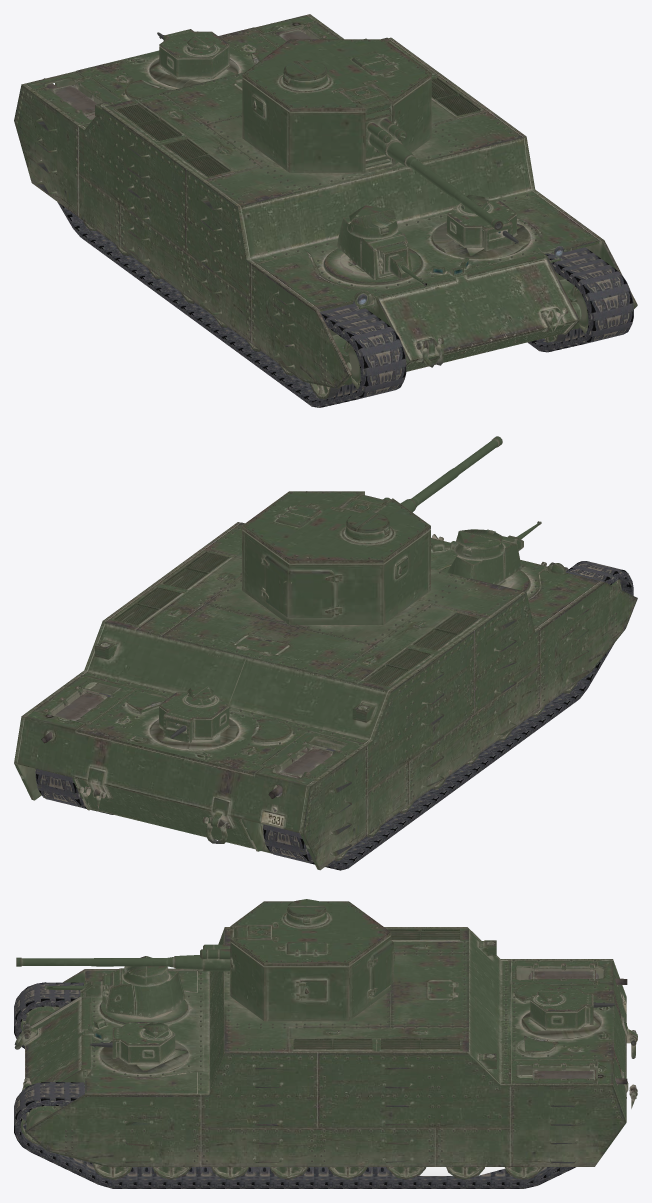
3 renders of one model, top to bottom at view 1: azimuth 30°, elevation 25°; view 2: azimuth 150°, elevation 25°; view 3: azimuth 270°, elevation 25°, orthographic. The views are drawn at different scales.
Parts seen in each view (by area): view 1: 0.002_Material_0, 0.003_Material.001_0, 3_Material.003_0, 1_Material.003_0, 0.001_Material.002_0, 5_Material.004_0; view 2: 0.002_Material_0, 0.003_Material.001_0, 3_Material.003_0, 1_Material.003_0, 0.001_Material.002_0; view 3: 0.002_Material_0, 0.003_Material.001_0, 1_Material.003_0, 7_Material.004_0, 0.001_Material.002_0, 3_Material.003_0, 5_Material.004_0.
Boxes of the visible parts, <box> form: 0.002_Material_0: <box>14,14,637,388</box>; 0.003_Material.001_0: <box>242,39,431,172</box>; 3_Material.003_0: <box>57,202,406,407</box>; 1_Material.003_0: <box>527,247,633,352</box>; 0.001_Material.002_0: <box>365,109,502,230</box>; 5_Material.004_0: <box>83,221,360,399</box>; 0.002_Material_0: <box>14,521,637,870</box>; 0.003_Material.001_0: <box>242,491,430,624</box>; 3_Material.003_0: <box>263,561,633,870</box>; 1_Material.003_0: <box>35,693,113,814</box>; 0.001_Material.002_0: <box>383,436,502,512</box>; 0.002_Material_0: <box>14,927,637,1166</box>; 0.003_Material.001_0: <box>230,899,394,1022</box>; 1_Material.003_0: <box>14,1082,575,1188</box>; 7_Material.004_0: <box>20,1106,543,1179</box>; 0.001_Material.002_0: <box>16,937,233,971</box>; 3_Material.003_0: <box>14,982,83,1048</box>; 5_Material.004_0: <box>20,1006,61,1030</box>.
Size of the model in its own units: 4.72 by 3.45 by 9.28.
Materials: 6 (5 with a texture image).
